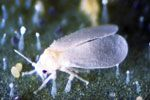whitefly: (13, 23, 129, 92)
